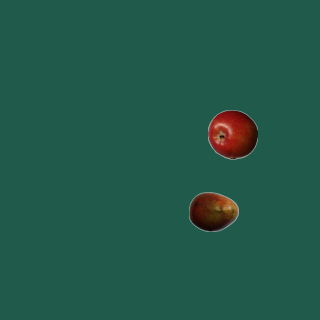Apple Braeburn: (207, 109, 257, 159)
Mango Red: (188, 186, 238, 236)
